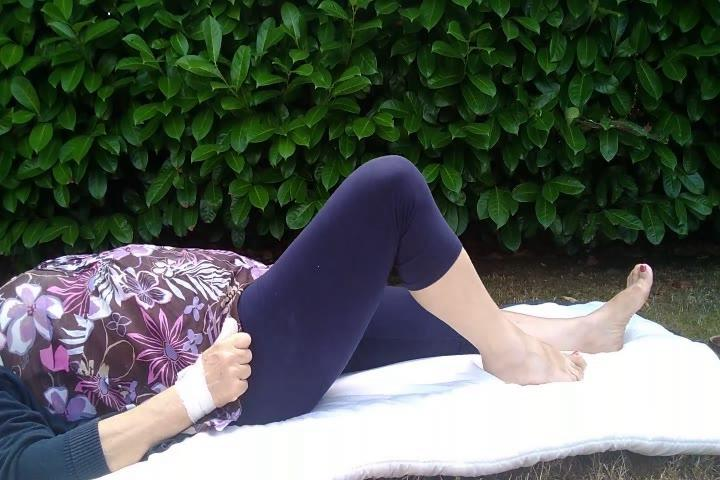lowerbody: (208, 149, 662, 435)
